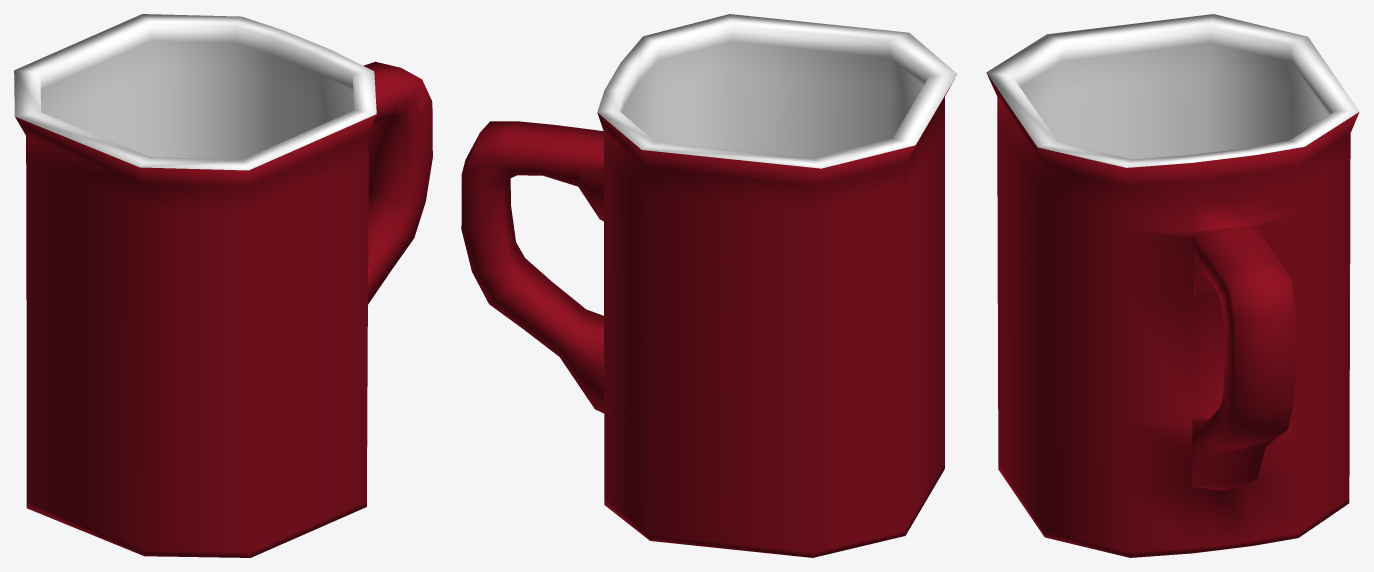
The model's file is nescafe_mug.gltf.
3 renders of one model, left to right at view 1: azimuth 30°, elevation 25°; view 2: azimuth 150°, elevation 25°; view 3: azimuth 270°, elevation 25°, orthographic.
Visible parts, largest first — view 1: mug; view 2: mug; view 3: mug.
Boxes of the visible parts, <box> form: mug: <box>14,14,432,557</box>; mug: <box>461,14,957,557</box>; mug: <box>986,14,1359,557</box>.
Bounding box in the file's own units: 0.1068 × 0.0936 × 0.0805.
